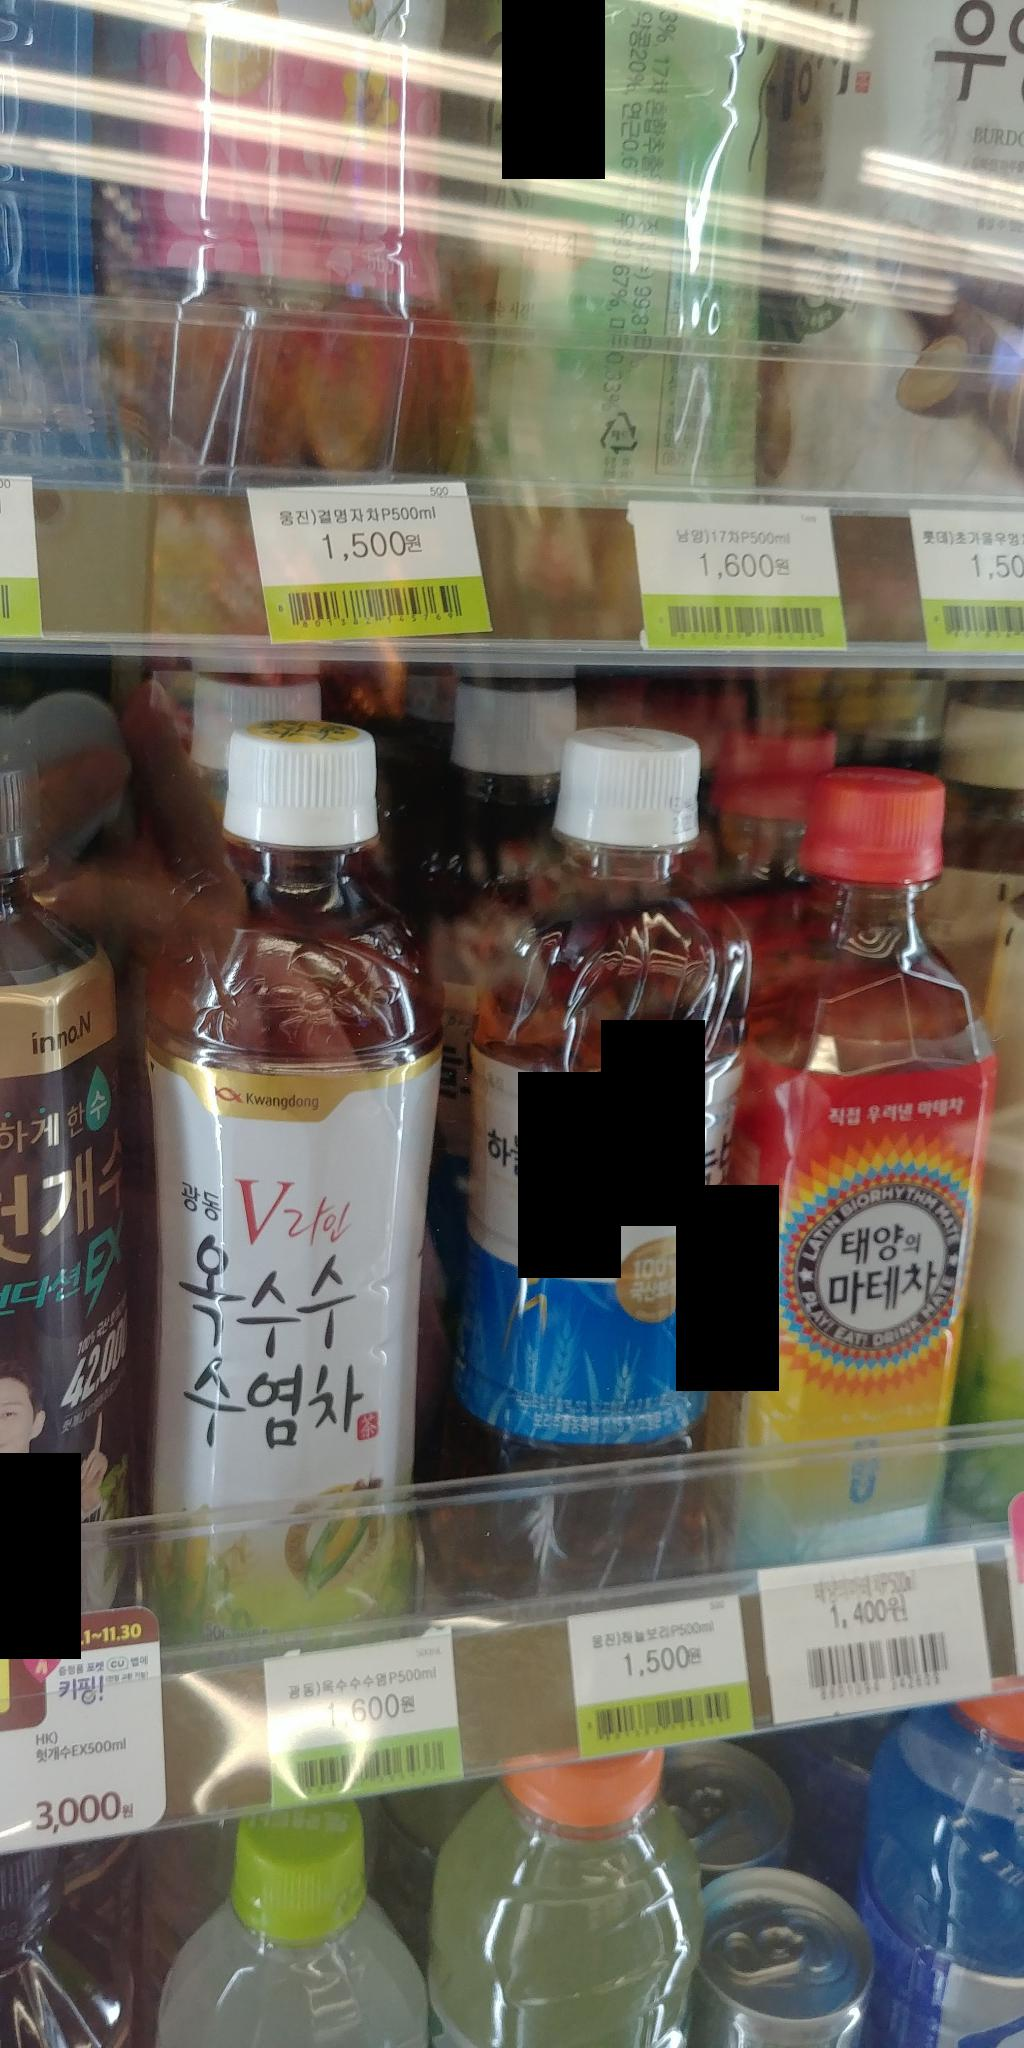haneulbori: (439, 708, 741, 1604)
oksususuyeomcha: (116, 694, 460, 1646)
